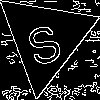S: (20, 13, 66, 69)
